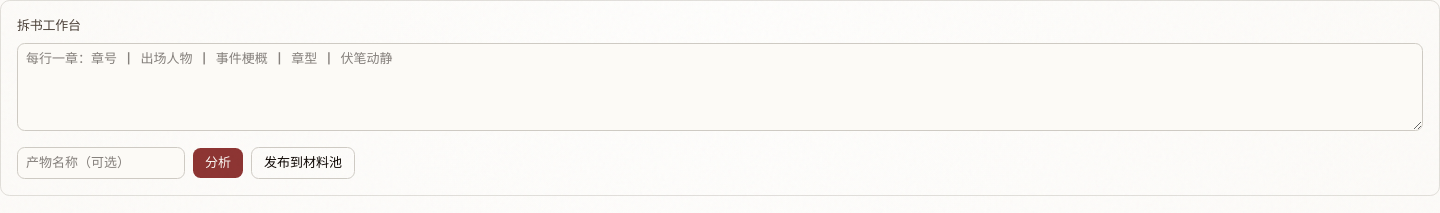
Test: DeconstructPanel 交互（477 号） › 端点失败时错误信息经 notice 透出
The image size is (1440, 213).
In the text box with placeholder "每行一章：章号 | 出场人物 | 事件梗概 | 章型 | 伏笔动静": point(720, 87) [17,43,1423,131], type "1 | 林动 | 初入大荒"
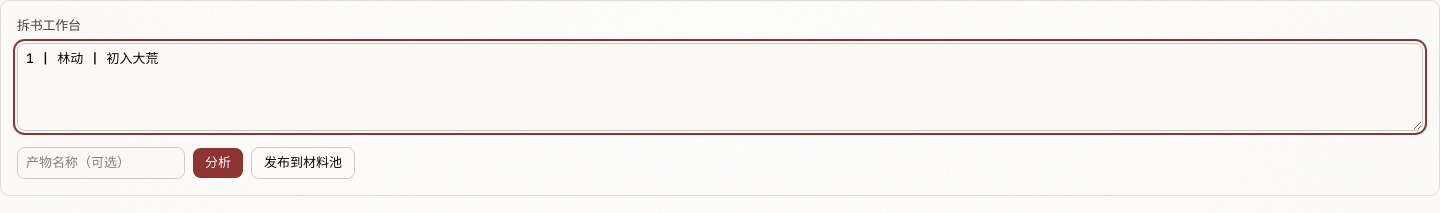
Click the button "分析": point(218, 163) [193,148,243,178]
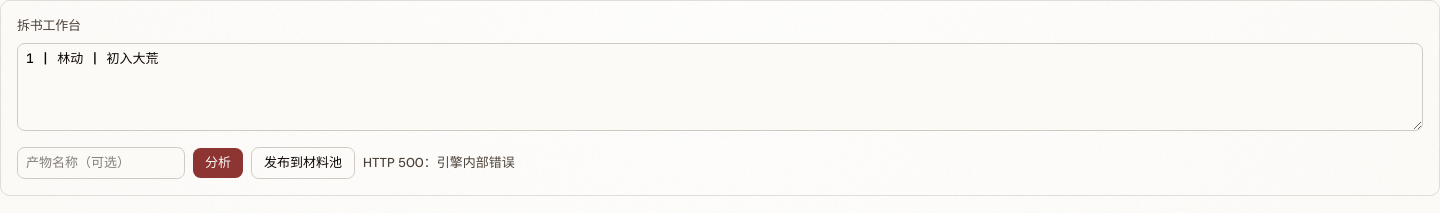
Result: the text "HTTP 500：引擎内部错误" is shown at [363,154,515,172]
